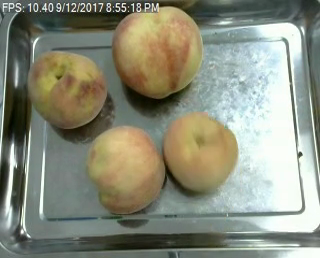Peach: (112, 4, 203, 99), (86, 123, 165, 215), (25, 49, 107, 128), (163, 110, 239, 194)
